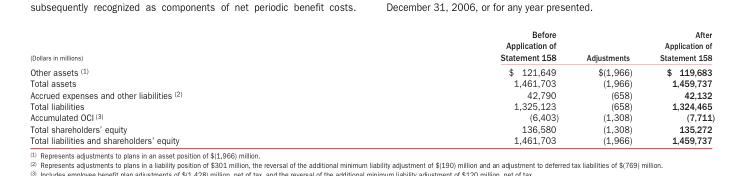table: (29, 28, 713, 145)
table column: (29, 28, 340, 145), (340, 28, 571, 145), (571, 28, 645, 145), (645, 28, 713, 145)
table column header: (29, 28, 713, 64)
table row: (29, 28, 713, 64), (29, 64, 713, 77), (29, 88, 713, 100), (29, 122, 713, 134), (29, 77, 713, 88), (29, 100, 713, 111), (29, 111, 713, 122), (29, 134, 713, 145)
